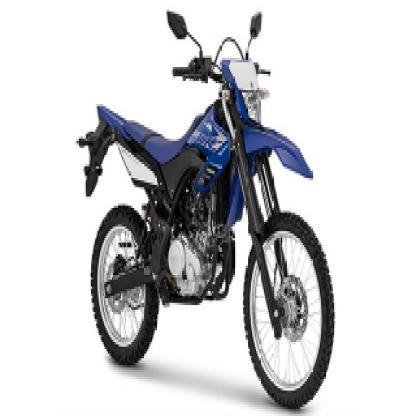Motorcycle: (77, 4, 340, 407)
